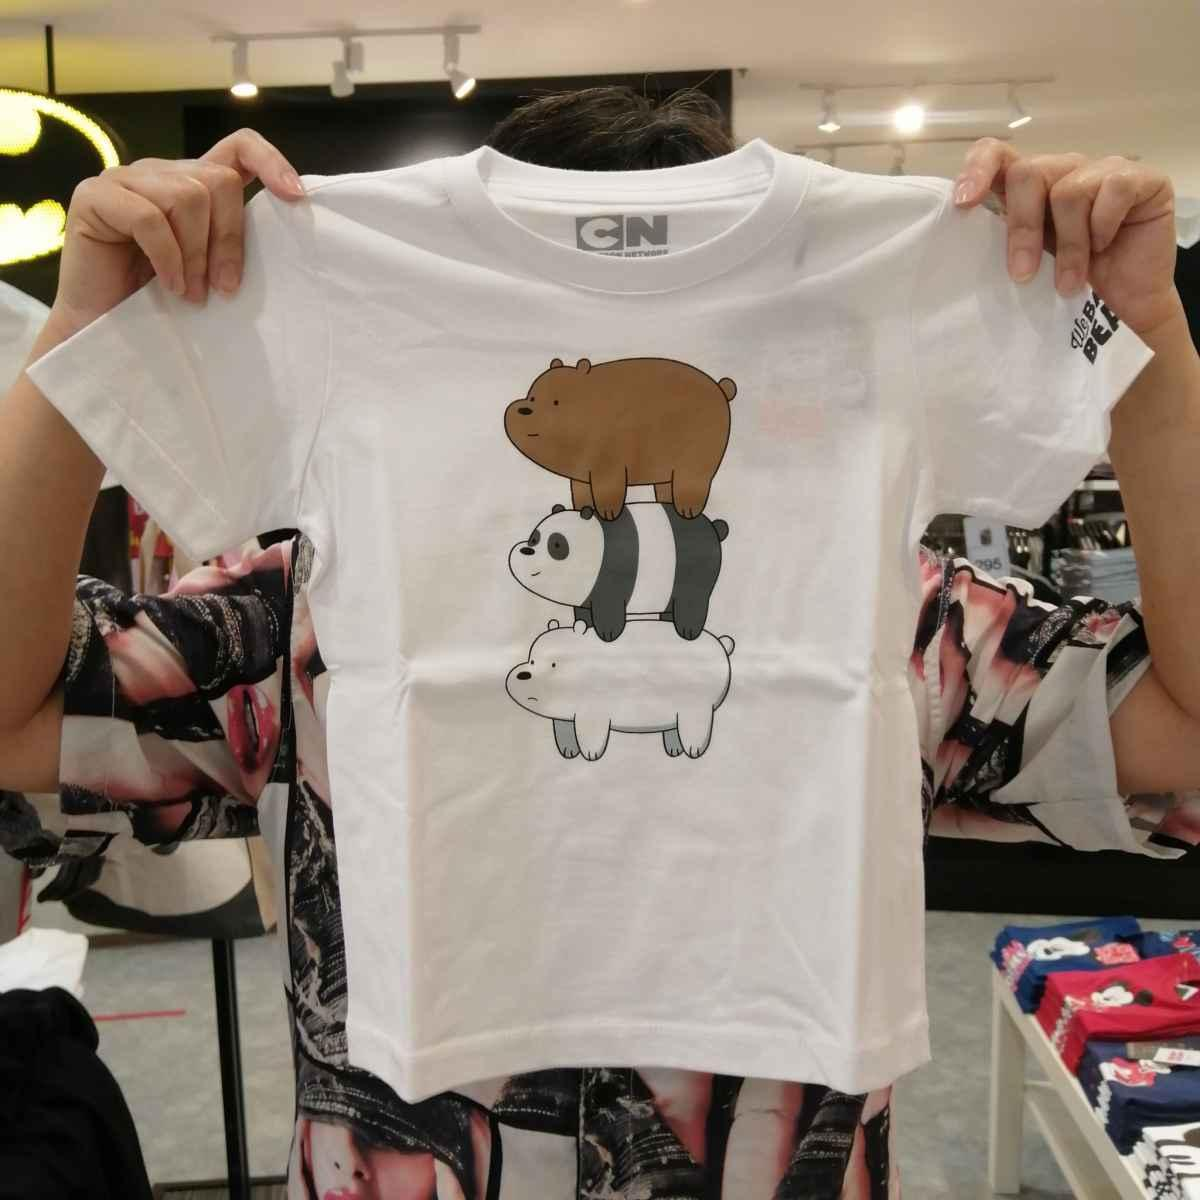Tshirt: (31, 148, 1125, 1087)
